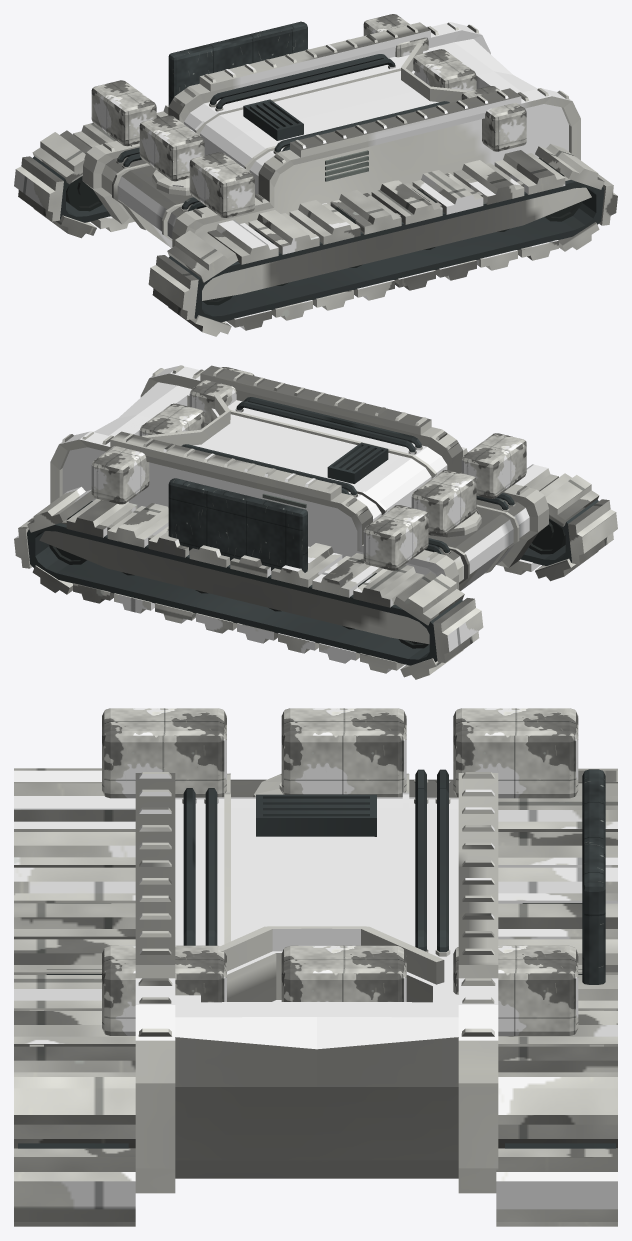
The model's file is light_tank_body.glb.
3 renders of one model, top to bottom at view 1: azimuth 30°, elevation 25°; view 2: azimuth 150°, elevation 25°; view 3: azimuth 270°, elevation 25°, orthographic. The views are drawn at different scales.
Parts seen in each view (by area): view 1: Tank_body.001_baked, TrackMesh.L_baked, TrackMesh.R_baked, rear_engine_grille, reactive_armor_-0.72_-0.38, reactive_armor_-0.72_0.08, reactive_armor_-0.72_0.52, reactive_armor_0.72_-0.38, reactive_armor_0.72_0.08, reactive_armor_0.72_0.52; view 2: Tank_body.001_baked, TrackMesh.R_baked, rear_engine_grille, TrackMesh.L_baked, reactive_armor_-0.72_0.52, reactive_armor_-0.72_-0.38, reactive_armor_-0.72_0.08, reactive_armor_0.72_0.52, reactive_armor_0.72_0.08, reactive_armor_0.72_-0.38; view 3: Tank_body.001_baked, TrackMesh.L_baked, TrackMesh.R_baked, reactive_armor_-0.72_0.08, reactive_armor_-0.72_0.52, reactive_armor_-0.72_-0.38, reactive_armor_0.72_0.52, reactive_armor_0.72_0.08, reactive_armor_0.72_-0.38, rear_engine_grille.
Boxes of the visible parts, x1,y1,x2,y2 form: Tank_body.001_baked: [33, 22, 604, 322]; TrackMesh.L_baked: [148, 144, 617, 336]; TrackMesh.R_baked: [14, 104, 168, 238]; rear_engine_grille: [168, 21, 307, 105]; reactive_armor_-0.72_-0.38: [189, 152, 254, 217]; reactive_armor_-0.72_0.08: [139, 115, 204, 181]; reactive_armor_-0.72_0.52: [91, 80, 156, 146]; reactive_armor_0.72_-0.38: [461, 86, 526, 151]; reactive_armor_0.72_0.08: [413, 49, 476, 90]; reactive_armor_0.72_0.52: [363, 14, 428, 57]; Tank_body.001_baked: [27, 365, 598, 665]; TrackMesh.R_baked: [14, 486, 483, 679]; rear_engine_grille: [168, 478, 307, 572]; TrackMesh.L_baked: [461, 447, 617, 581]; reactive_armor_-0.72_0.52: [363, 505, 428, 570]; reactive_armor_-0.72_-0.38: [461, 433, 526, 498]; reactive_armor_-0.72_0.08: [411, 470, 476, 535]; reactive_armor_0.72_0.52: [91, 446, 149, 504]; reactive_armor_0.72_0.08: [139, 403, 204, 436]; reactive_armor_0.72_-0.38: [189, 367, 254, 426]; Tank_body.001_baked: [18, 769, 615, 1193]; TrackMesh.L_baked: [14, 768, 135, 1226]; TrackMesh.R_baked: [496, 768, 617, 1226]; reactive_armor_-0.72_0.08: [281, 708, 406, 797]; reactive_armor_-0.72_0.52: [453, 708, 578, 798]; reactive_armor_-0.72_-0.38: [102, 708, 226, 798]; reactive_armor_0.72_0.52: [453, 945, 578, 1035]; reactive_armor_0.72_0.08: [281, 945, 406, 1001]; reactive_armor_0.72_-0.38: [102, 945, 226, 1035]; rear_engine_grille: [582, 769, 605, 984].
Size of the model in its own units: 2.31 by 0.6906 by 1.55.
5 materials, 4 textured.
